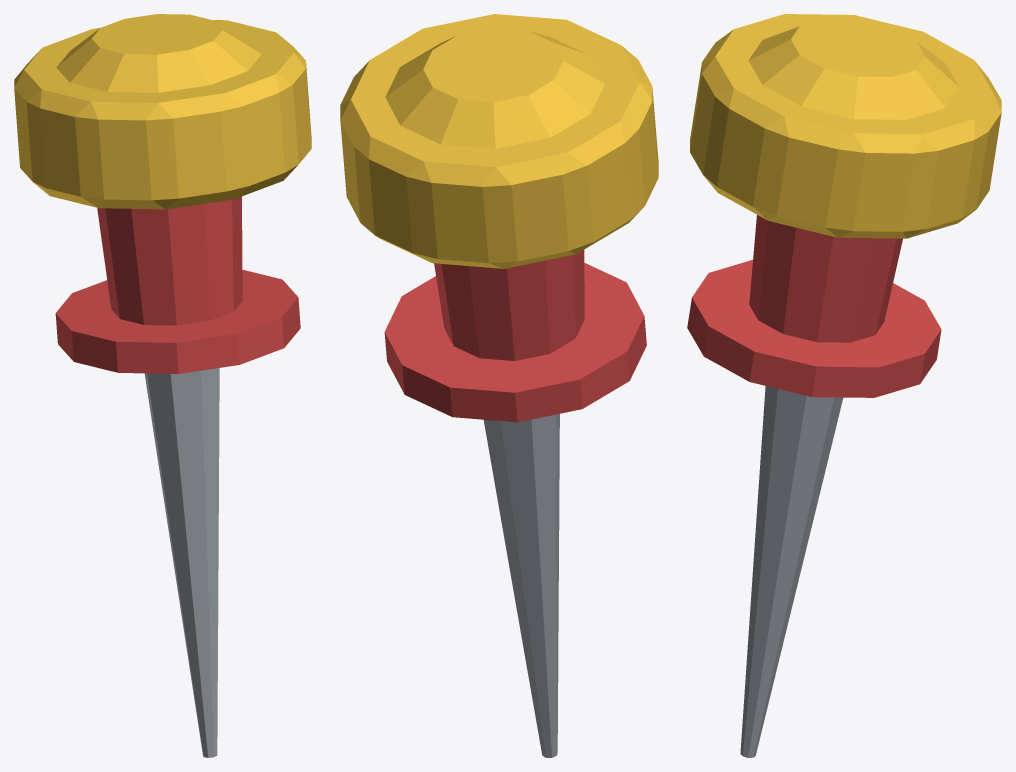
Rendered from thumbtacks_m0_1.glb.
3 views of the same model, side by side, from view 1: azimuth 30°, elevation 25°; view 2: azimuth 150°, elevation 25°; view 3: azimuth 270°, elevation 25° (orthographic). The views are drawn at different scales.
Visible parts, largest first — view 1: thumbtacks_m0_1_mesh; view 2: thumbtacks_m0_1_mesh; view 3: thumbtacks_m0_1_mesh.
Part boxes in pixels (<box>): thumbtacks_m0_1_mesh: <box>14,14,311,757</box>; thumbtacks_m0_1_mesh: <box>340,14,658,757</box>; thumbtacks_m0_1_mesh: <box>687,14,1001,757</box>.
Bounding box in the file's own units: 0.2248 × 0.5869 × 0.2336.
